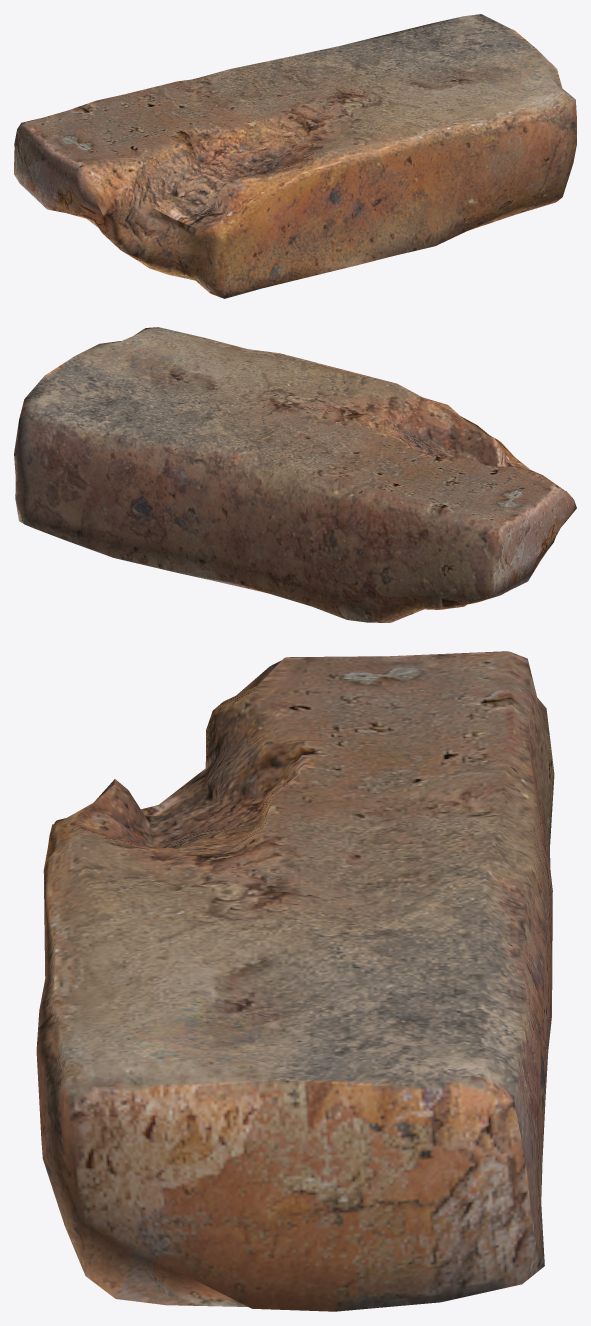
Rendered from SM_Brick_01_03.fbx.
3 views of the same model, one above another, from view 1: azimuth 30°, elevation 25°; view 2: azimuth 150°, elevation 25°; view 3: azimuth 270°, elevation 25° (orthographic). The views are drawn at different scales.
Parts seen in each view (by area): view 1: sm_Brick_01_03_LOD0; view 2: sm_Brick_01_03_LOD0; view 3: sm_Brick_01_03_LOD0.
Part boxes in pixels (x1,y1,x2,y2): sm_Brick_01_03_LOD0: [14, 14, 576, 298]; sm_Brick_01_03_LOD0: [14, 327, 576, 622]; sm_Brick_01_03_LOD0: [36, 651, 554, 1311].
Bounding box in the file's own units: 12.24 × 25.58 × 6.59.
